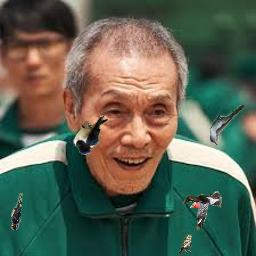Cuckoo: (210, 105, 244, 145)
Sparrow: (178, 234, 192, 255)
Swallow: (73, 115, 108, 155), (11, 193, 23, 230)
Woodpecker: (183, 191, 222, 231)
